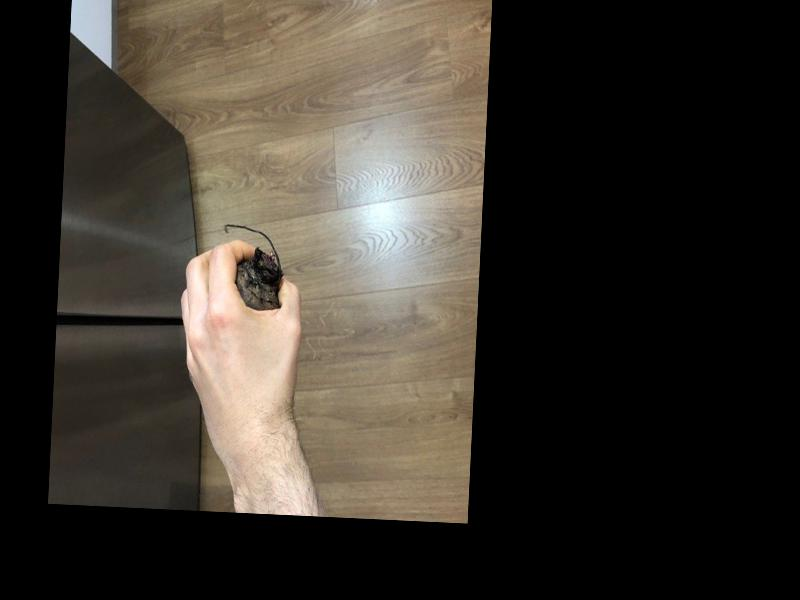Beet: (219, 221, 284, 311)
